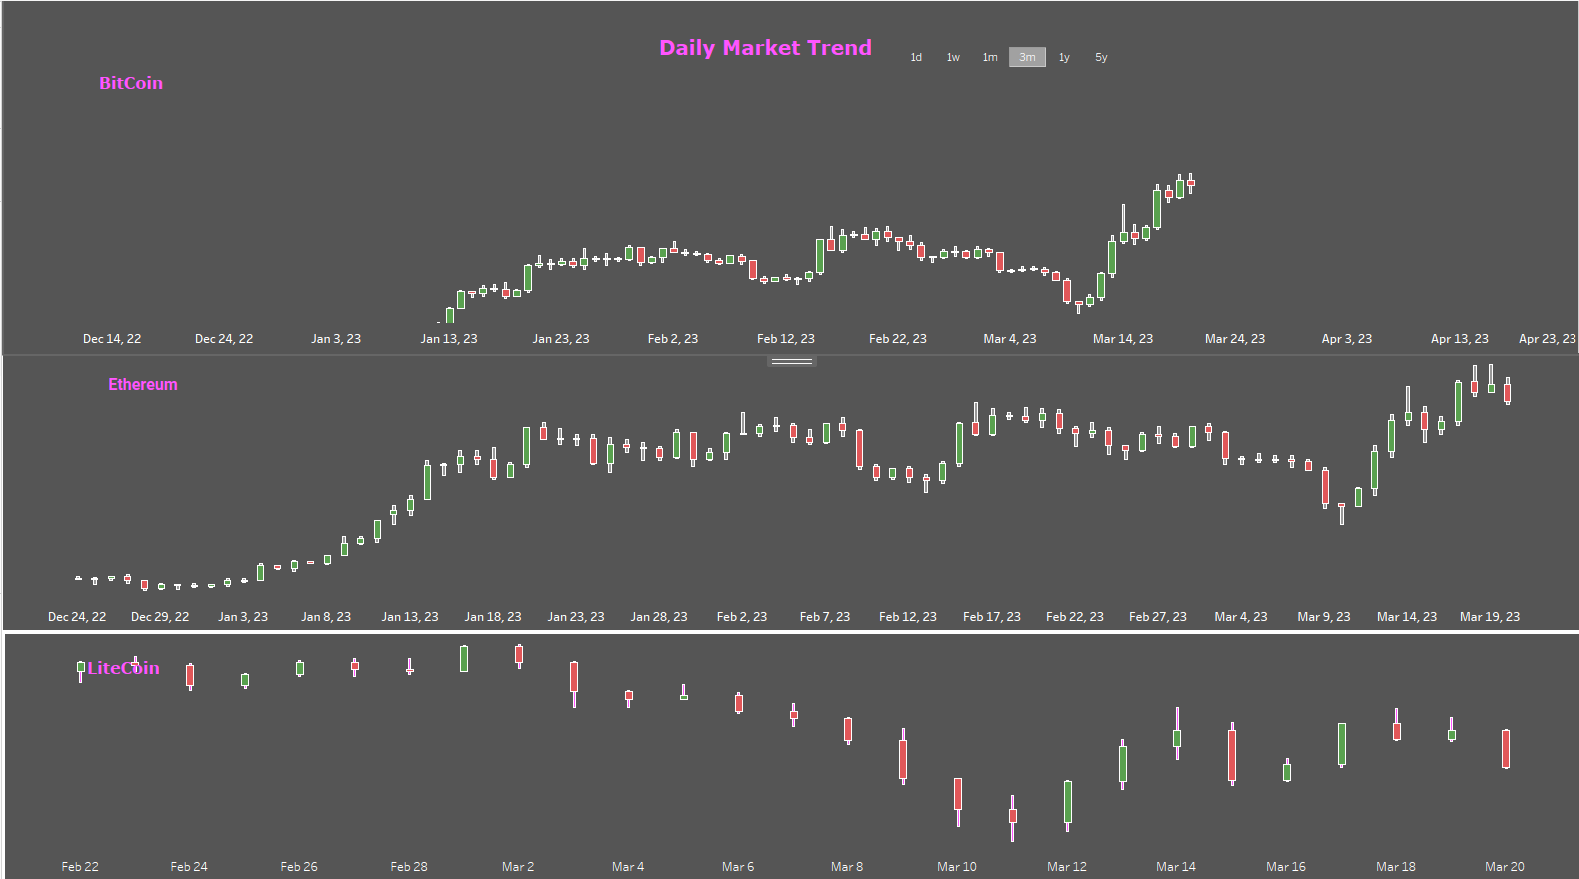

The dashboard page shown, as its layout file describes it:
{"tool":"tableau","page":{"name":"Daily Trends","canvas":[1600,900],"ordinal":0},"visuals":[{"type":"worksheet","title":"BTC1","mark":"GanttBar","rows":["Open","High"],"cols":["Date"],"box":[0,0,1577.7,369]},{"type":"text","box":[570.4,36,386.8,52.7]},{"type":"filter","title":"BTC1","param":"[federated.0sgzb0z06xgf5b164xg8x0m1ba4y].[tdy:Date:qk]","box":[969,53,233,33]},{"type":"text","box":[54,67,150,61]},{"type":"worksheet","title":"ETH","mark":"GanttBar","rows":["Open","High"],"cols":["Date"],"box":[1.4,367.7,1579.1,277.7]},{"type":"text","box":[77,380,128,39]},{"type":"worksheet","title":"LTC","mark":"GanttBar","rows":["Open","High"],"cols":["Date"],"box":[2.8,649.3,1576.4,246.9]},{"type":"text","box":[68,664,107,37]}]}

Visuals, with their boxes in screenshot pixels (x1, y1, x2, y2), scaled from the page's 1600x900 canvas onto the 1579x879 screenshot:
"BTC1" worksheet (GanttBar marks): (x1=0, y1=0, x2=1557, y2=360)
text: (x1=563, y1=35, x2=945, y2=87)
"BTC1" filter: (x1=956, y1=52, x2=1186, y2=84)
text: (x1=53, y1=65, x2=201, y2=125)
"ETH" worksheet (GanttBar marks): (x1=1, y1=359, x2=1560, y2=630)
text: (x1=76, y1=371, x2=202, y2=409)
"LTC" worksheet (GanttBar marks): (x1=3, y1=634, x2=1558, y2=875)
text: (x1=67, y1=649, x2=173, y2=685)
